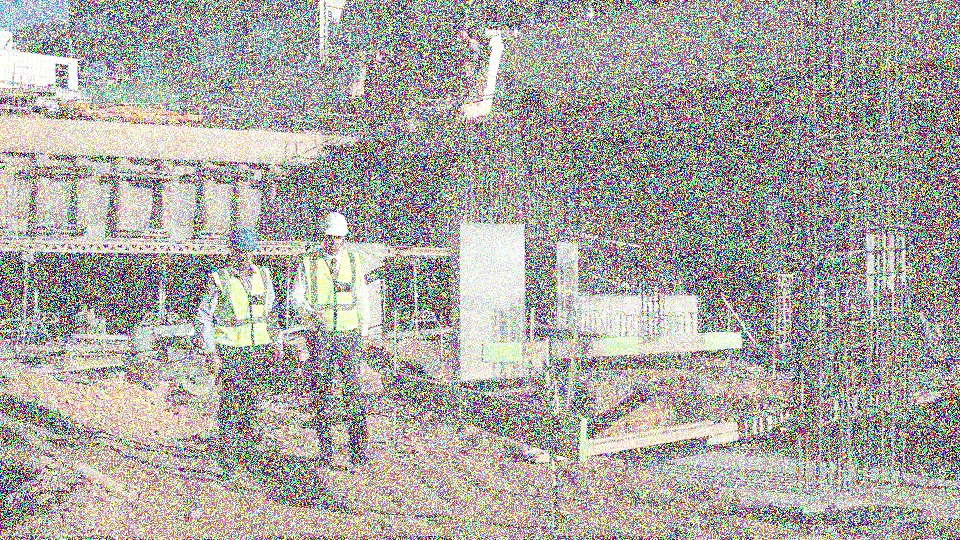helmet: (318, 211, 349, 257), (227, 224, 260, 267)
vest: (215, 268, 271, 343), (303, 252, 359, 326)
